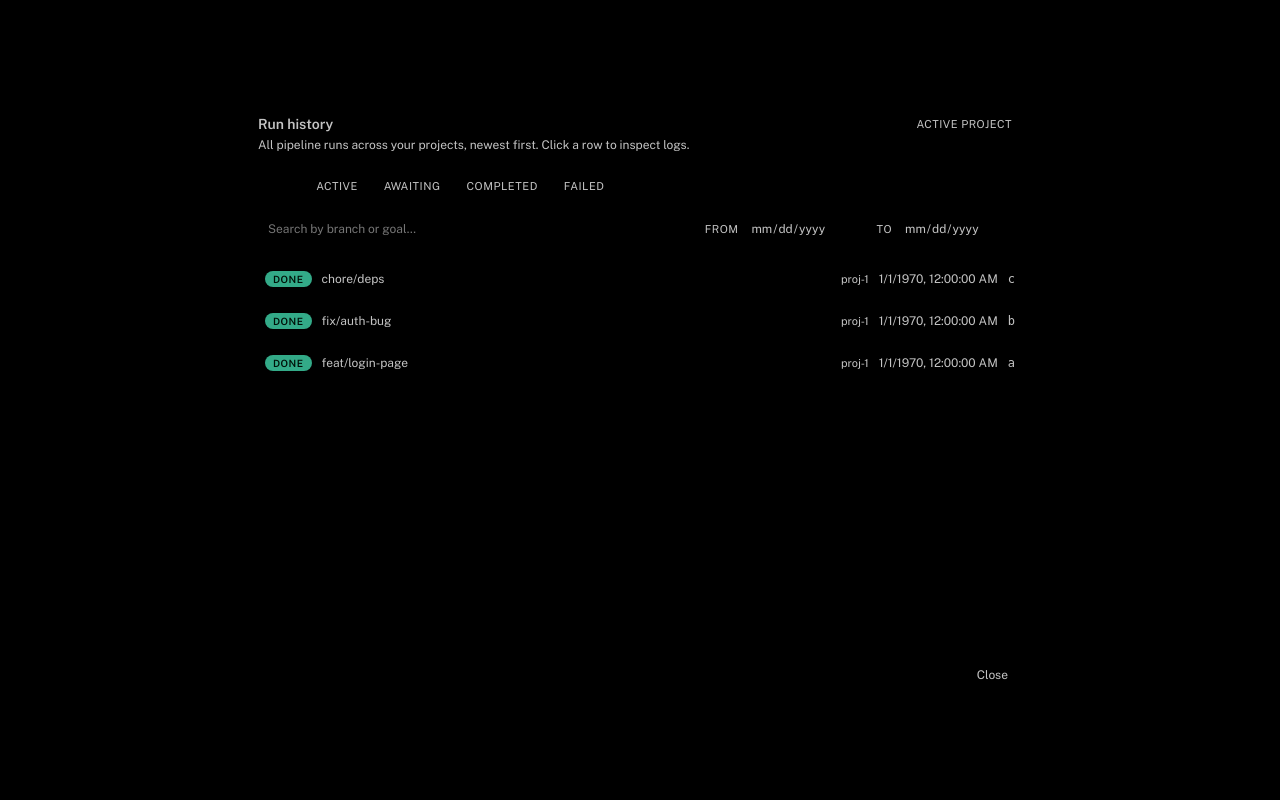
RunHistoryPanel › search input filters runs by case-insensitive branch substring
Type "AUTH" into the field with test id "run-history-search" at (477, 229), box [258,216,697,242]
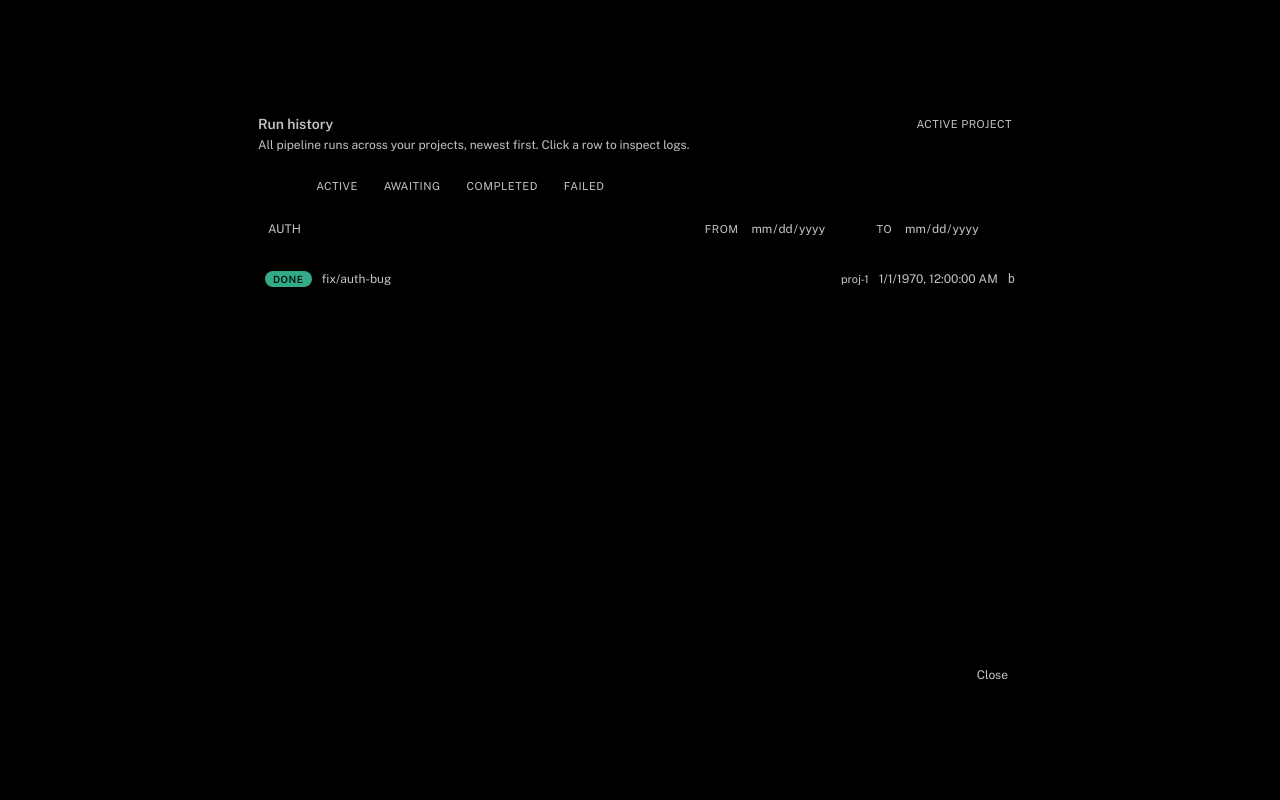
Result: the number of buttons with test id "run-history-row" is 1 at [252,260,1028,298]
